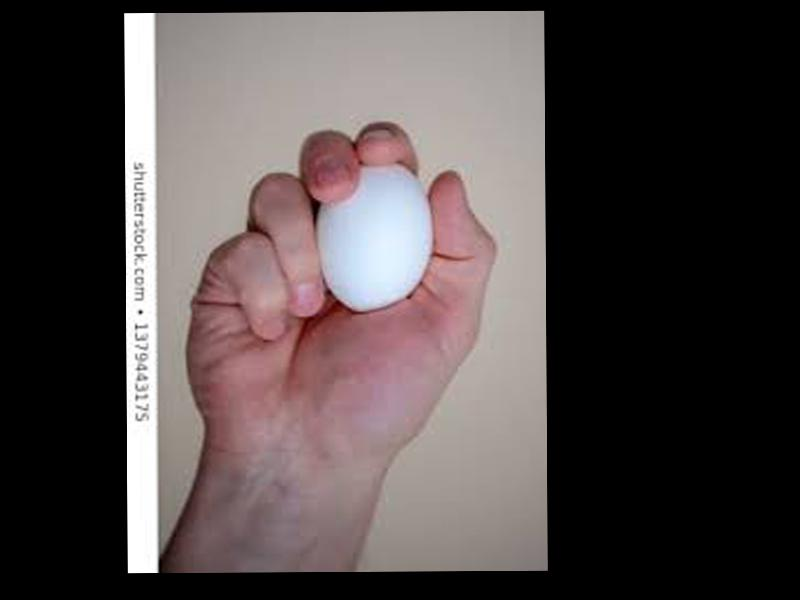Eggs: (317, 163, 433, 314)
